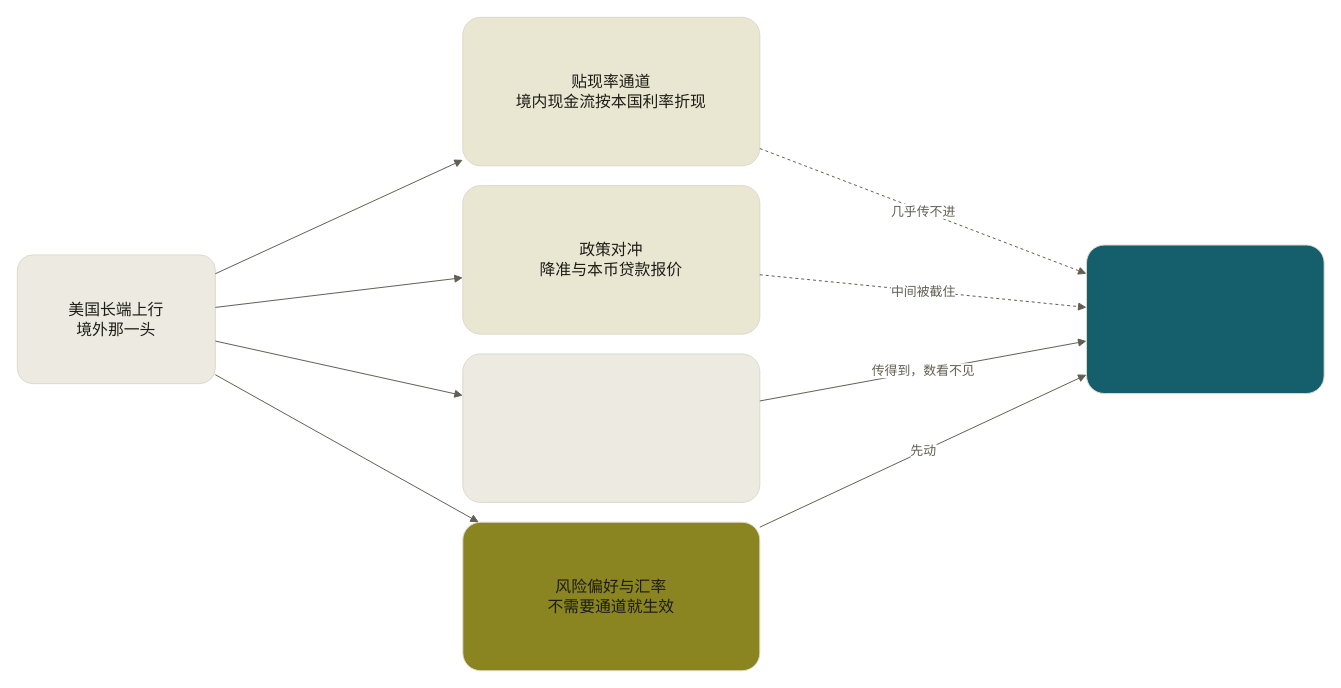
Image size: 1341x688. Some labels were removed from this diagram. Here are the shapes that lost their labels. From the top down, the centre of each, then its label:
At (x=1205, y=319): "A 股 与美债各自定价".
At (x=611, y=427): "资金流通道 北向已无官方日频口径".
